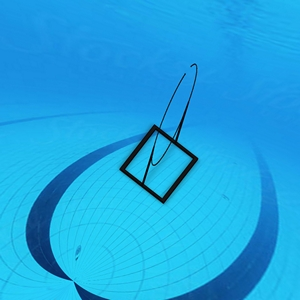circle: (119, 59, 204, 207)
